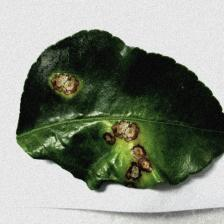canker: (33, 67, 165, 181)
